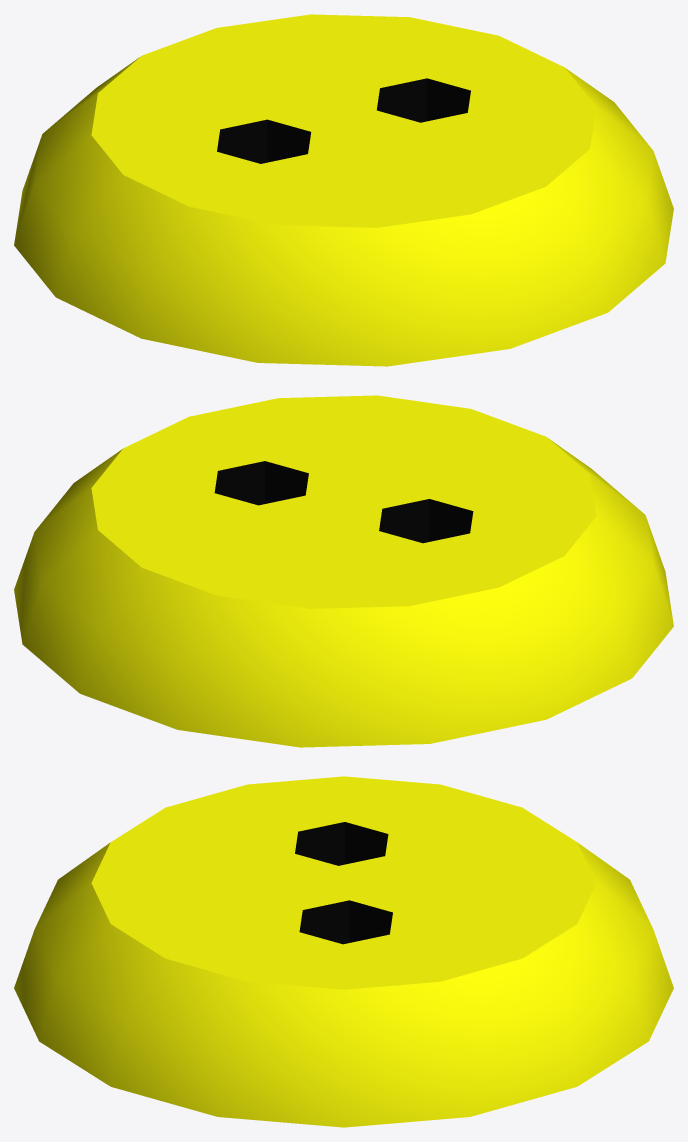
Rendered from InsulinHole.fbx.
The picture shows the model from 3 angles, top to bottom: view 1: azimuth 30°, elevation 25°; view 2: azimuth 150°, elevation 25°; view 3: azimuth 270°, elevation 25°; orthographic projection.
Visible parts, largest first — view 1: OsStyleKeyhole; view 2: OsStyleKeyhole; view 3: OsStyleKeyhole.
Boxes of the visible parts, x1,y1,x2,y2 form: OsStyleKeyhole: (14,14,673,366); OsStyleKeyhole: (14,395,673,747); OsStyleKeyhole: (14,776,673,1127).
Size of the model in its own units: 242 by 42.44 by 242.
